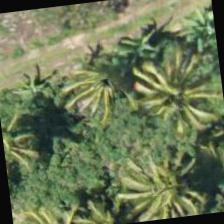Kelapa_Sawit: (137, 46, 223, 147), (120, 143, 219, 222)
